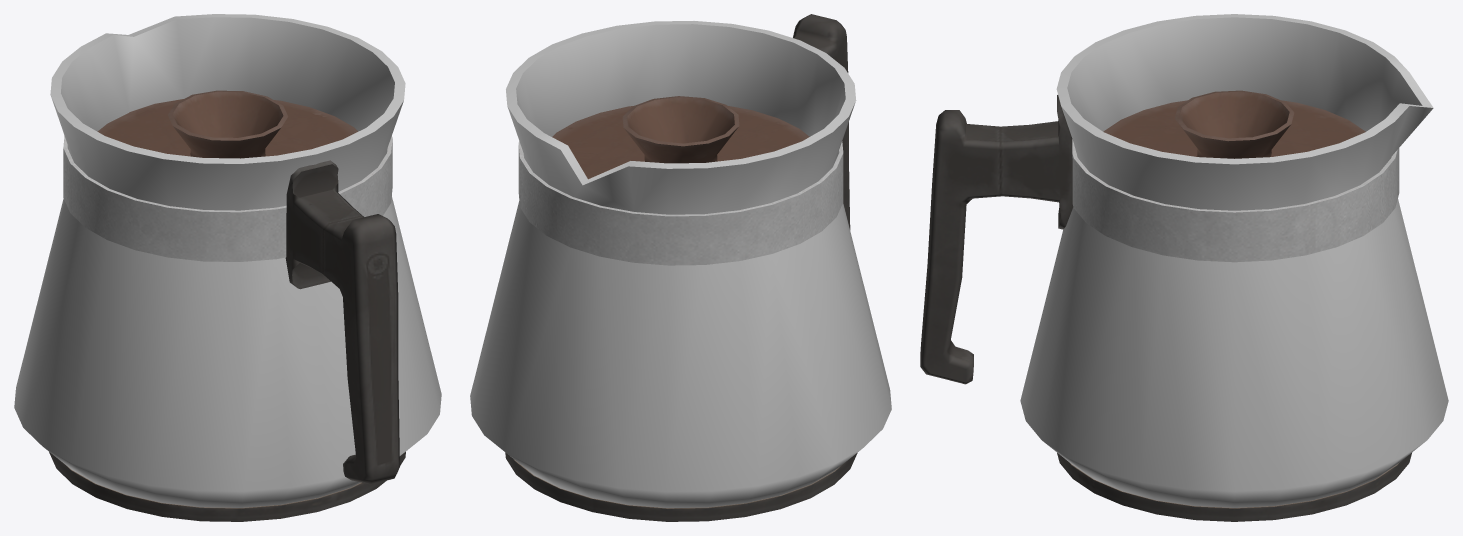
Rendered from SM_Coffee_Maker_01c.fbx.
The picture shows the model from 3 angles, left to right: view 1: azimuth 30°, elevation 25°; view 2: azimuth 150°, elevation 25°; view 3: azimuth 270°, elevation 25°; orthographic projection.
Parts seen in each view (by area): view 1: SM_Coffee_Maker_01c_LOD0; view 2: SM_Coffee_Maker_01c_LOD0; view 3: SM_Coffee_Maker_01c_LOD0.
Part boxes in pixels (bbox=[...]): SM_Coffee_Maker_01c_LOD0: bbox=[14, 14, 441, 521]; SM_Coffee_Maker_01c_LOD0: bbox=[470, 14, 891, 521]; SM_Coffee_Maker_01c_LOD0: bbox=[920, 14, 1448, 521].
Bounding box in the file's own units: 19.28 × 23.78 × 17.8.
Materials: 2 (1 with a texture image).
